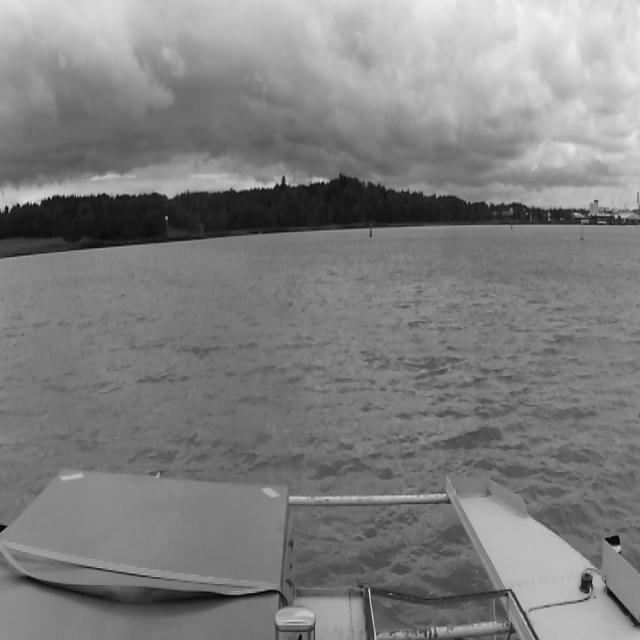buoy: (580, 221, 584, 240), (370, 225, 372, 236), (510, 220, 512, 228)
